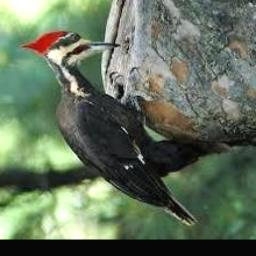Woodpecker: (21, 31, 199, 224)
